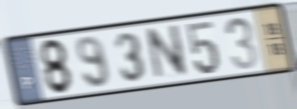3: (224, 16, 258, 71), (113, 30, 146, 85)
5: (183, 18, 222, 76)
8: (38, 37, 74, 97)
9: (75, 34, 112, 90)
N: (144, 22, 190, 83)
